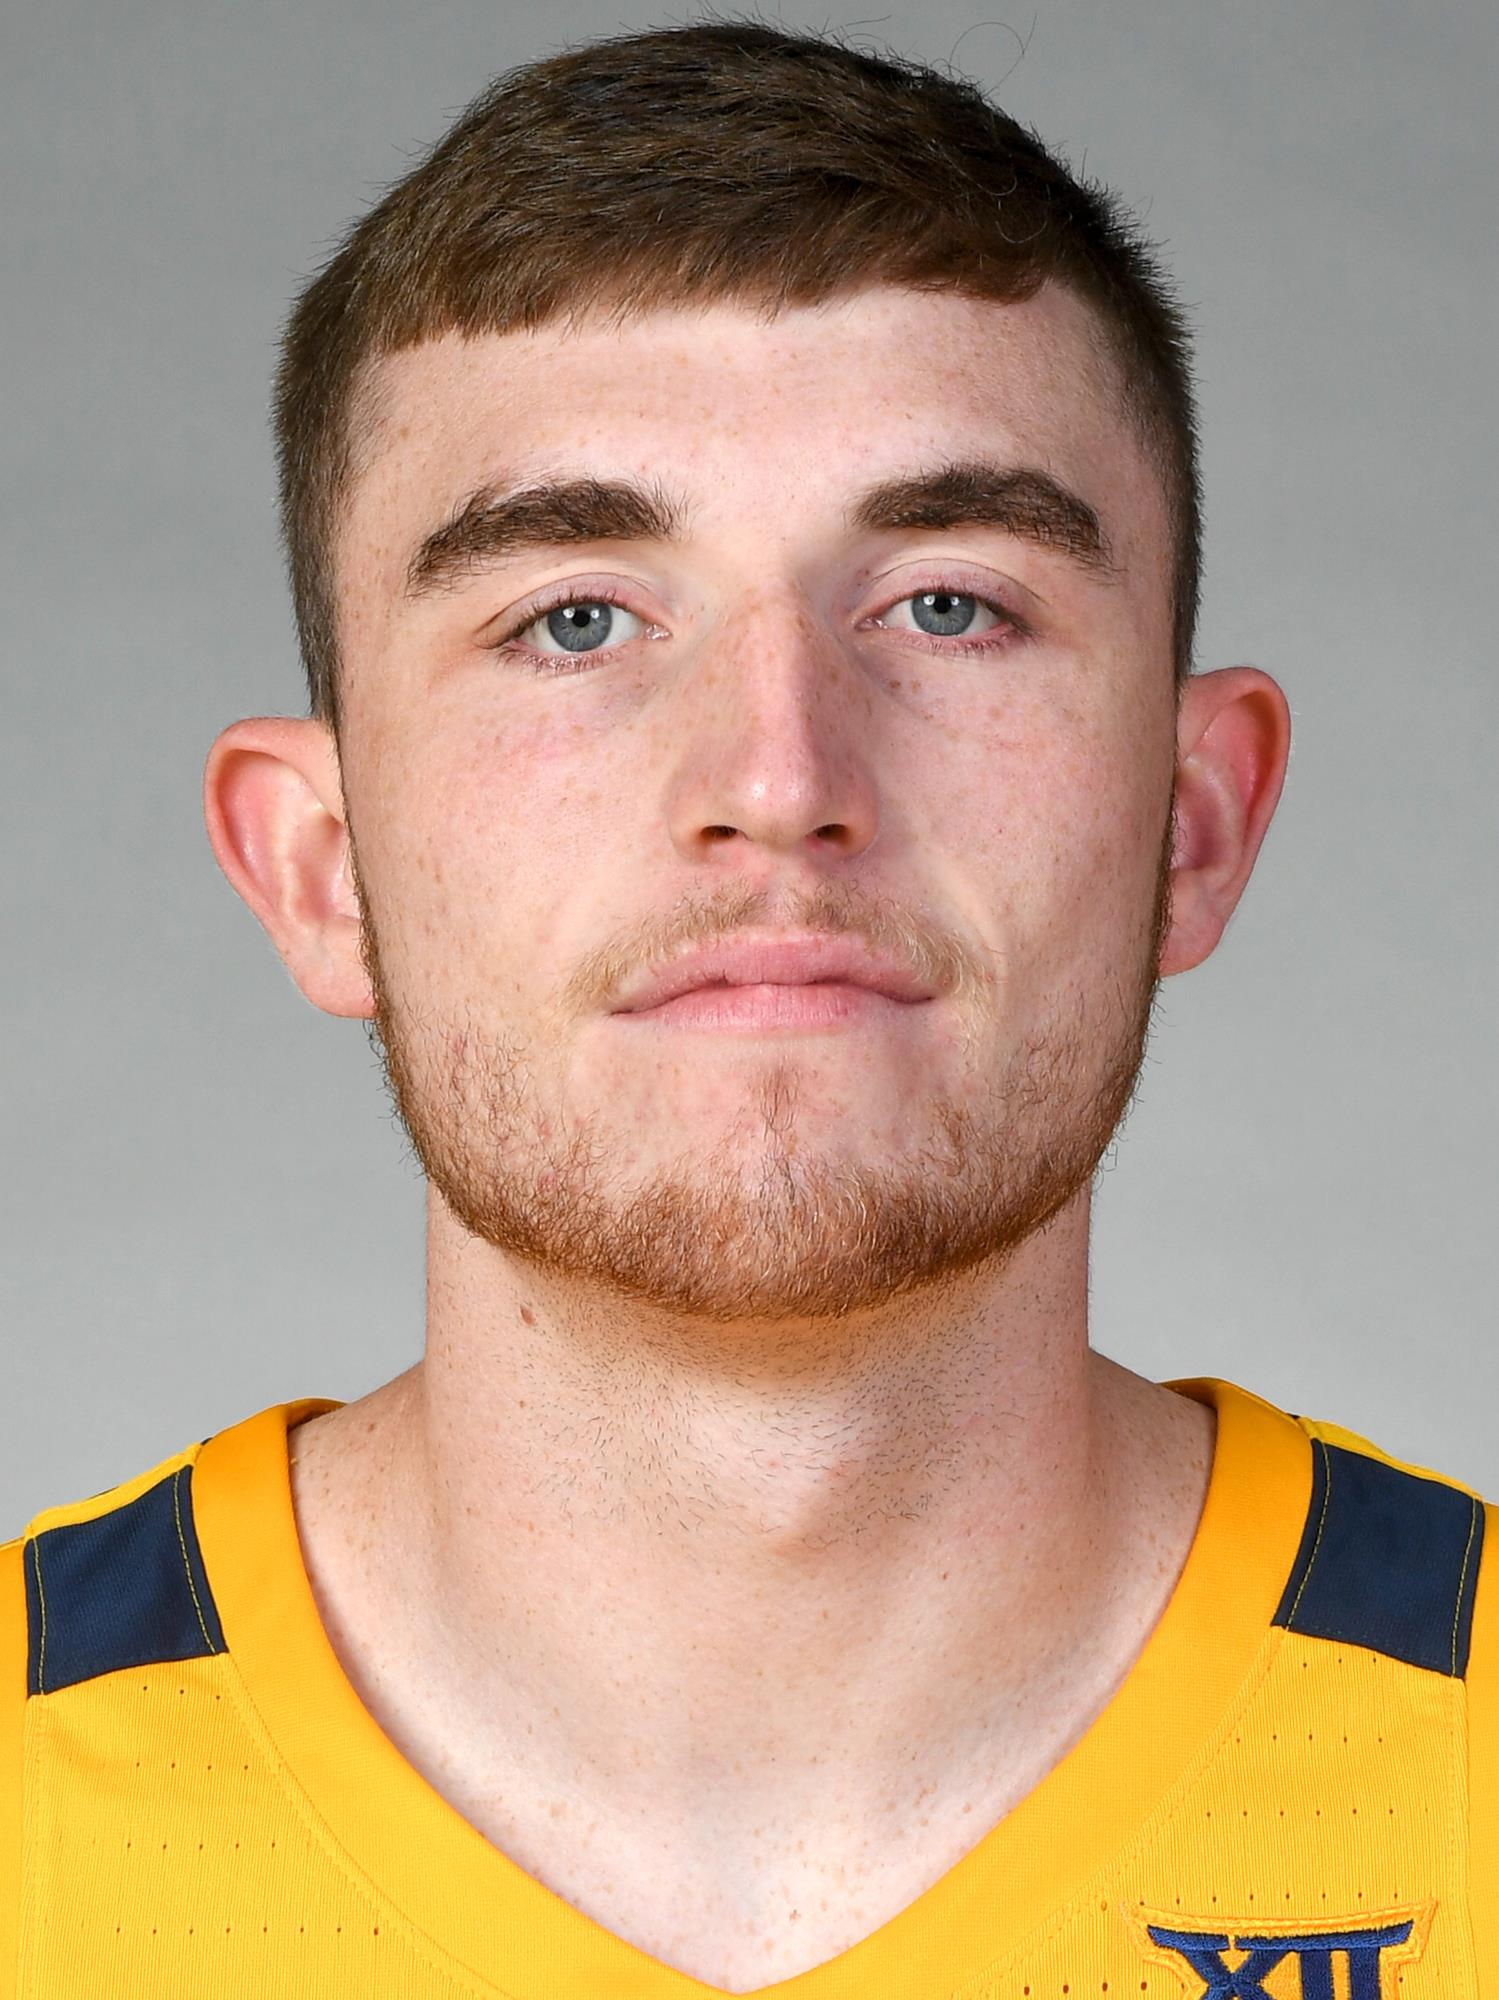bare: (303, 695, 1191, 1279)
